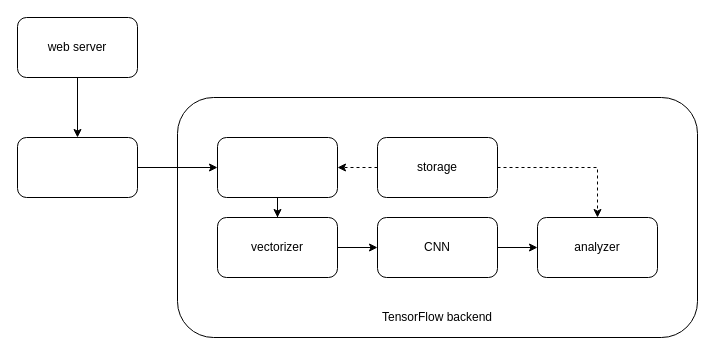
This 715x355 diagram has some shape labels left out. The box of each missing label's shape, as (x1, y1, x2, y2) in pixels:
ModSecurity: (16, 136, 138, 198)
tokenizer: (216, 136, 338, 198)
